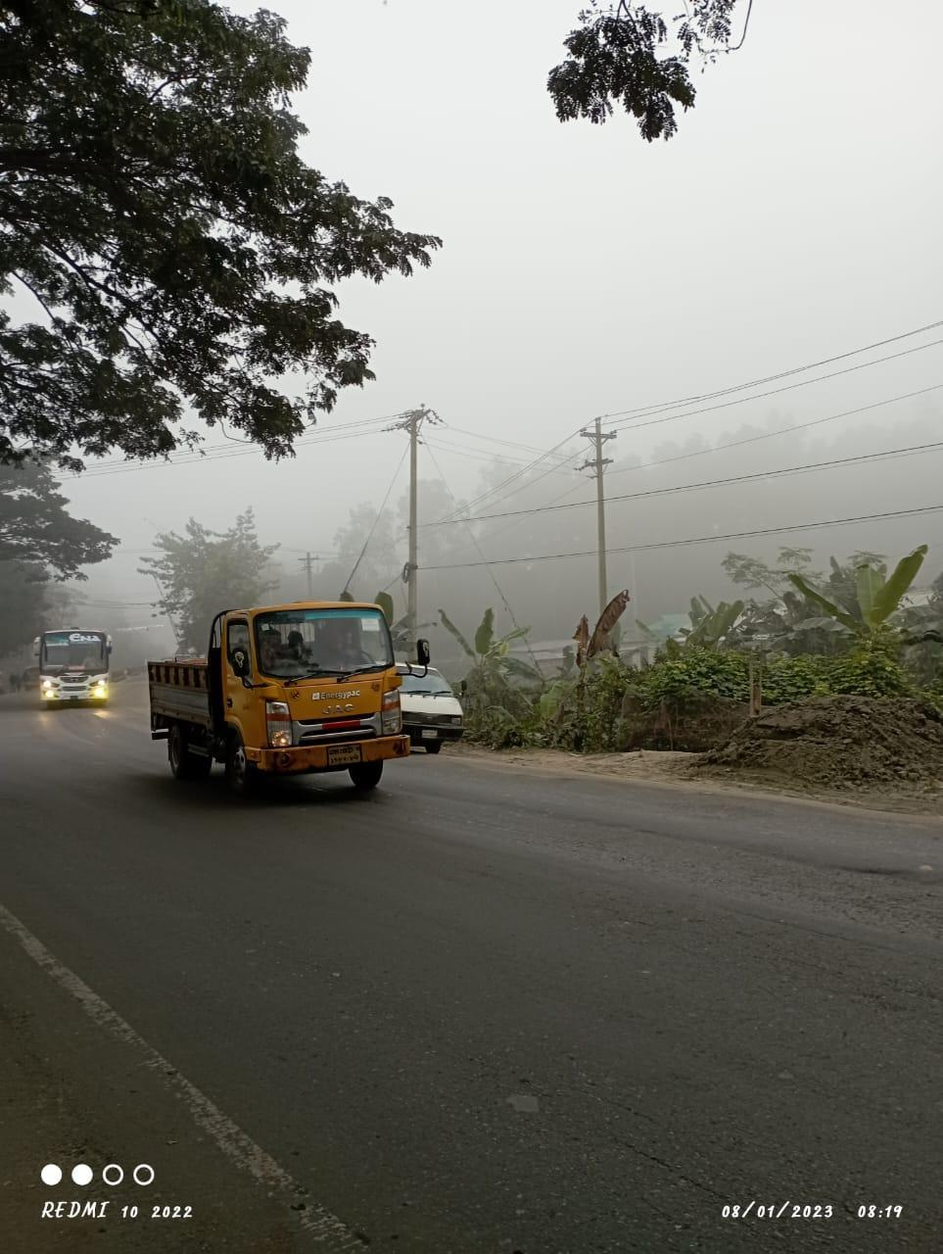Bus: (27, 620, 123, 714)
Car: (396, 648, 480, 753)
Truck: (139, 588, 419, 799)
